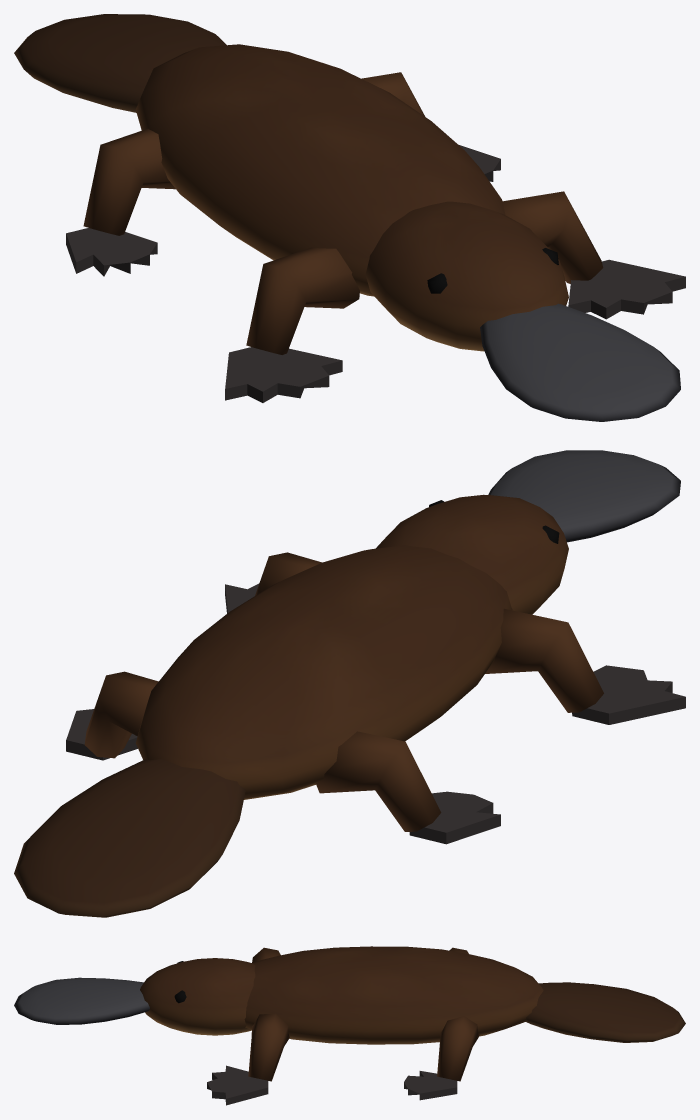
Rendered from Platypus.fbx.
3 renders of one model, top to bottom at view 1: azimuth 30°, elevation 25°; view 2: azimuth 150°, elevation 25°; view 3: azimuth 270°, elevation 25°, orthographic. The views are drawn at different scales.
Parts seen in each view (by area): view 1: Platypus; view 2: Platypus; view 3: Platypus.
Part boxes in pixels (x1=…): Platypus: x1=14, y1=14, x2=685, y2=421; Platypus: x1=14, y1=450, x2=685, y2=917; Platypus: x1=14, y1=946, x2=685, y2=1105.
Bounding box in the file's own units: 0.7517 × 0.222 × 1.64.
